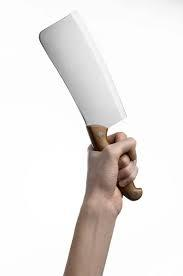Knife: (38, 8, 142, 201)
